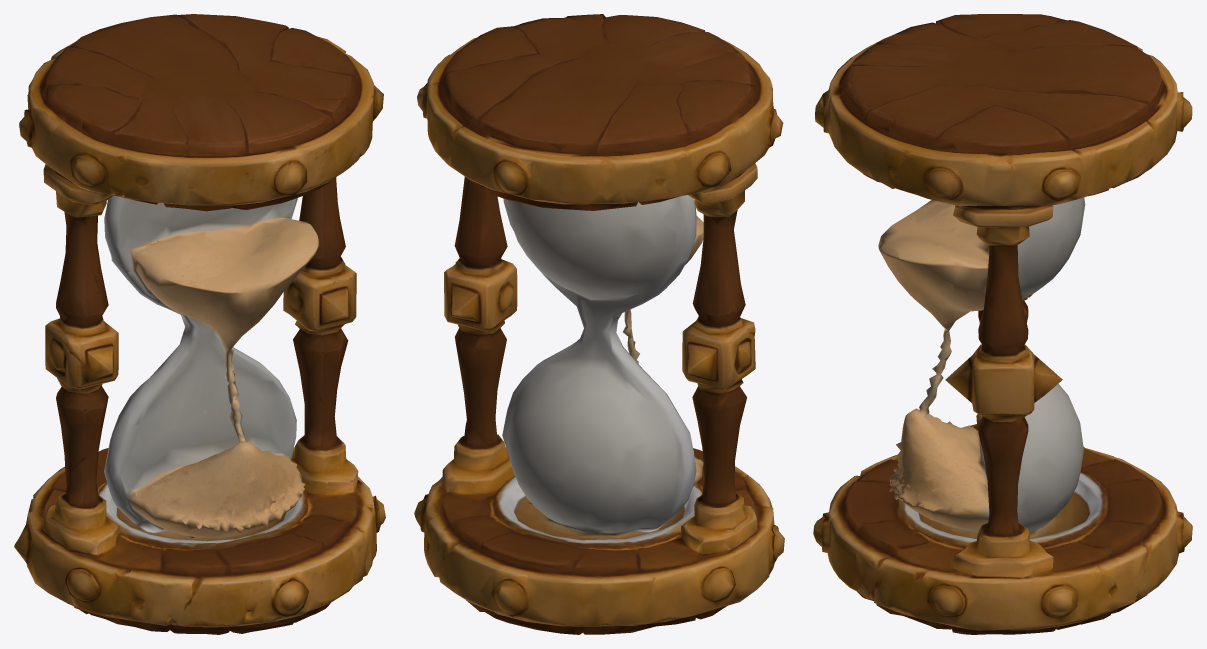
Rendered from sand_timer_icon.fbx.
The picture shows the model from 3 angles, left to right: view 1: azimuth 30°, elevation 25°; view 2: azimuth 150°, elevation 25°; view 3: azimuth 270°, elevation 25°; orthographic projection.
Parts seen in each view (by area): view 1: tripo_node_a8131960; view 2: tripo_node_a8131960; view 3: tripo_node_a8131960.
Boxes of the visible parts, box(x1,y1,x2,y2) form: tripo_node_a8131960: box(14, 14, 385, 634); tripo_node_a8131960: box(414, 14, 784, 634); tripo_node_a8131960: box(813, 14, 1192, 634).
Bounding box in the file's own units: 64.83 × 67.88 × 100.
1 material, 1 textured.
